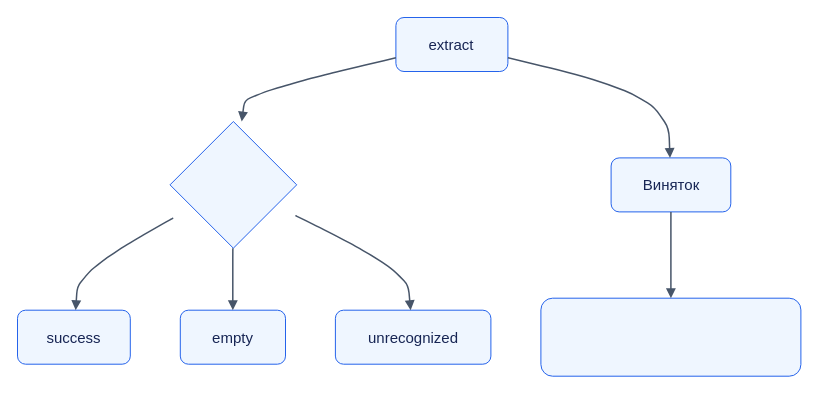
The diagram is 819 pixels wide and 394 high, and some of its shapes have lost their labels. The centre of each missing label's shape, as x and y in pixels:
"failed у runtime або local result" belongs at [670,336].
"Результат" belongs at [233,184].
